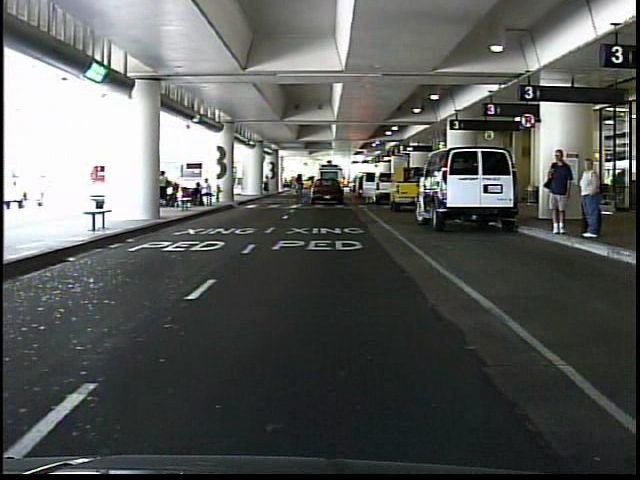person: (574, 151, 608, 244), (544, 146, 573, 238), (348, 169, 363, 202), (263, 169, 275, 194)
